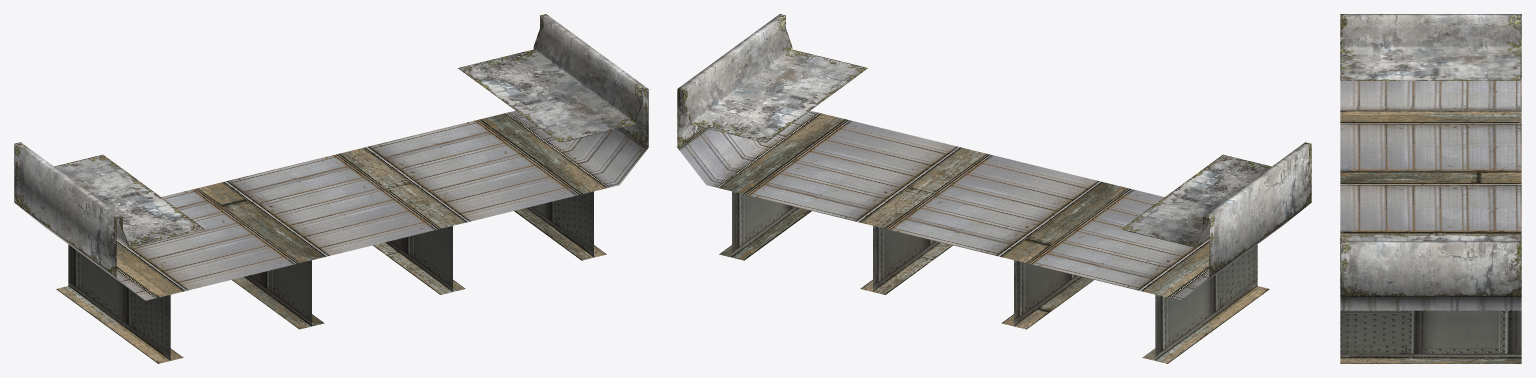
The model's file is Bridge-7m.fbx.
3 renders of one model, left to right at view 1: azimuth 30°, elevation 25°; view 2: azimuth 150°, elevation 25°; view 3: azimuth 270°, elevation 25°, orthographic. The views are drawn at different scales.
Parts seen in each view (by area): view 1: Bridge-7m; view 2: Bridge-7m; view 3: Bridge-7m.
Boxes of the visible parts, bbox=[...] form: Bridge-7m: bbox=[14, 14, 648, 363]; Bridge-7m: bbox=[677, 14, 1311, 363]; Bridge-7m: bbox=[1340, 14, 1521, 363].
Size of the model in its own units: 2100 by 587 by 700.
